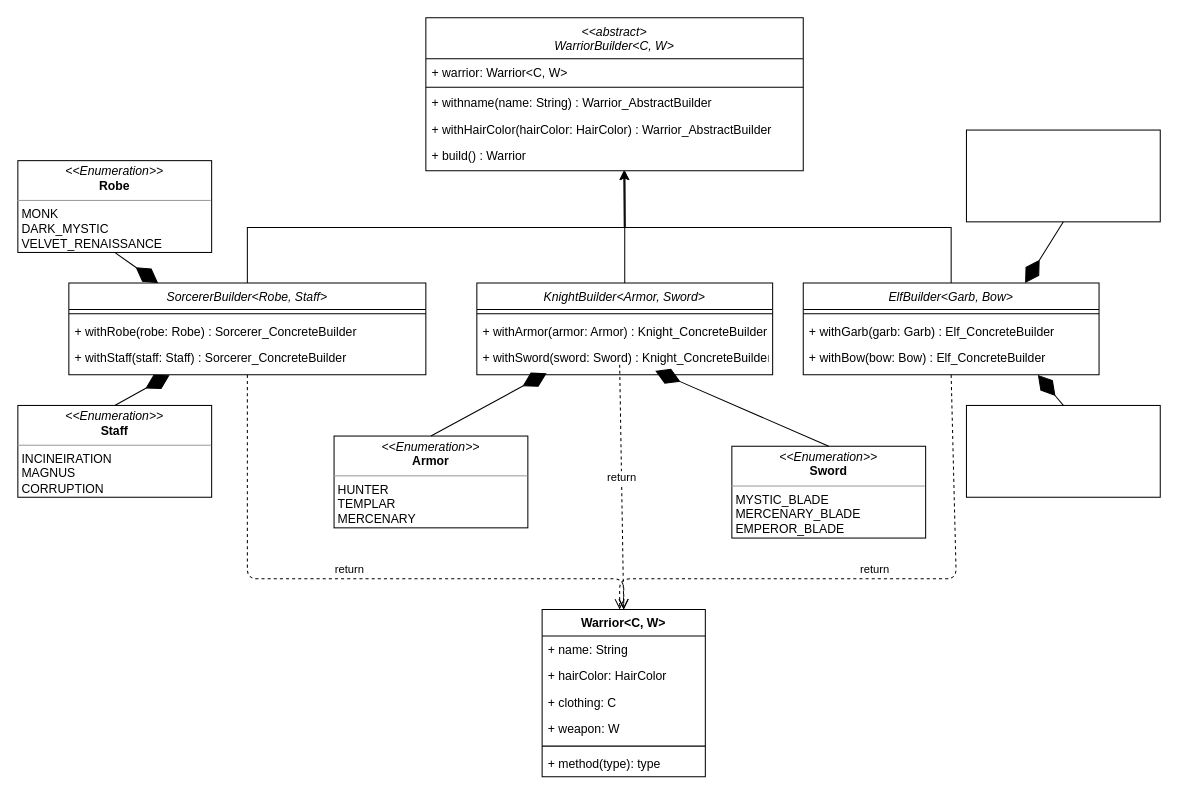
Image size: 1178x798. Some labels were removed from this diagram. Here are the shapes that lost their labels. From the top down, the box of each, then its label:
(965, 129, 1160, 222): <<Enumeration>> Bow AGGRESSIVE WINGED RAIDER
(965, 404, 1160, 497): <<Enumeration>> Garb EXECUTIONER HUNTER FOREIGN
